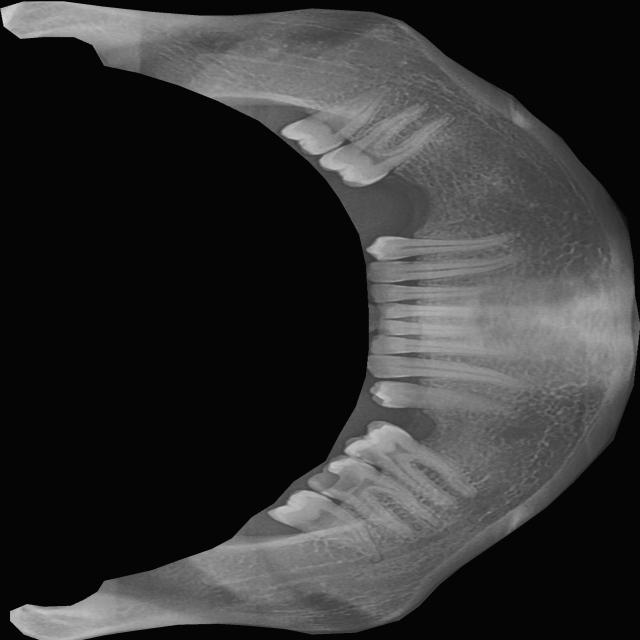mandibula: (0, 0, 640, 640)
